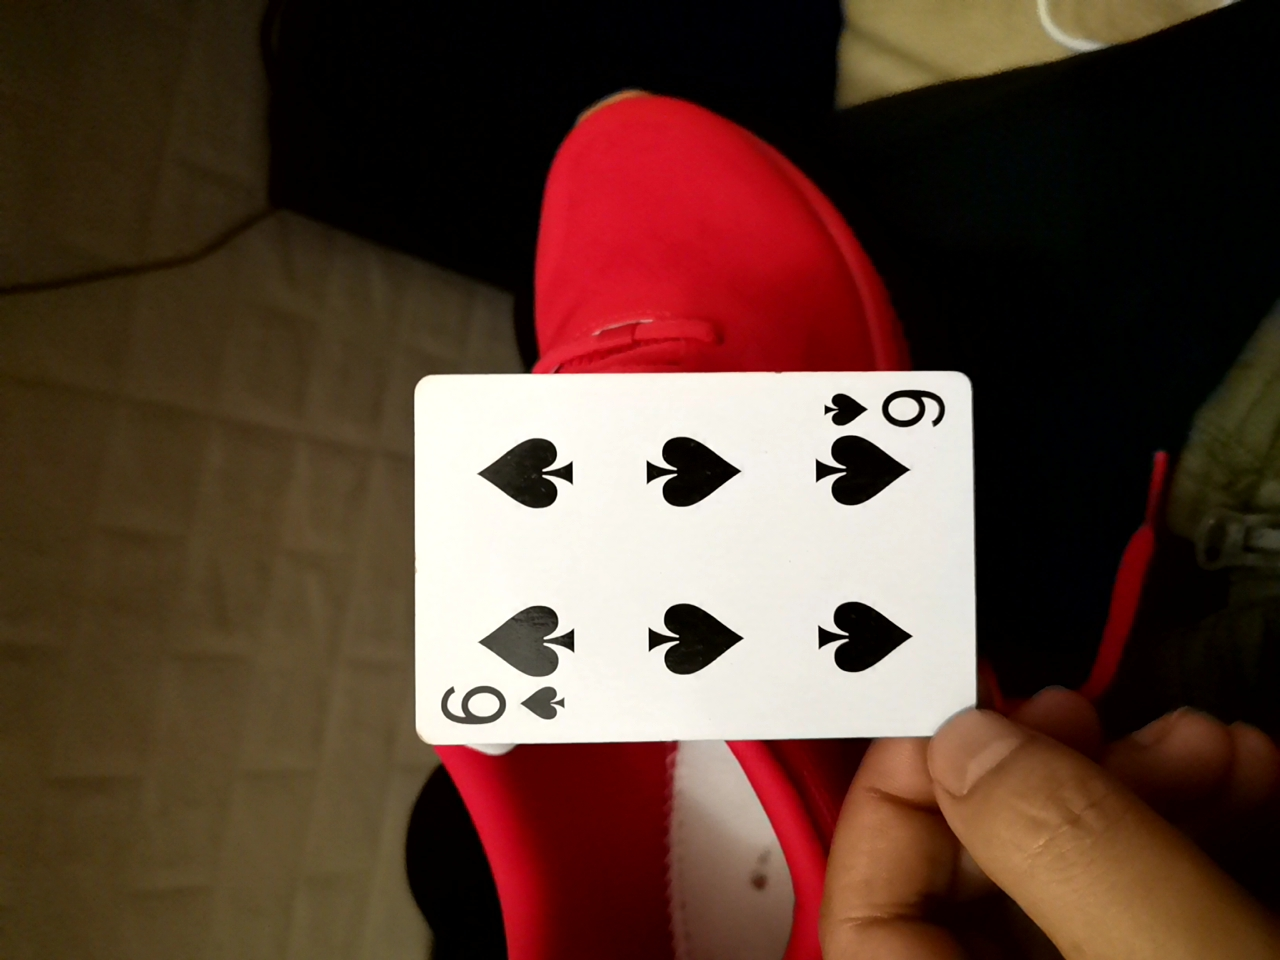ht 6: (406, 368, 985, 749)
